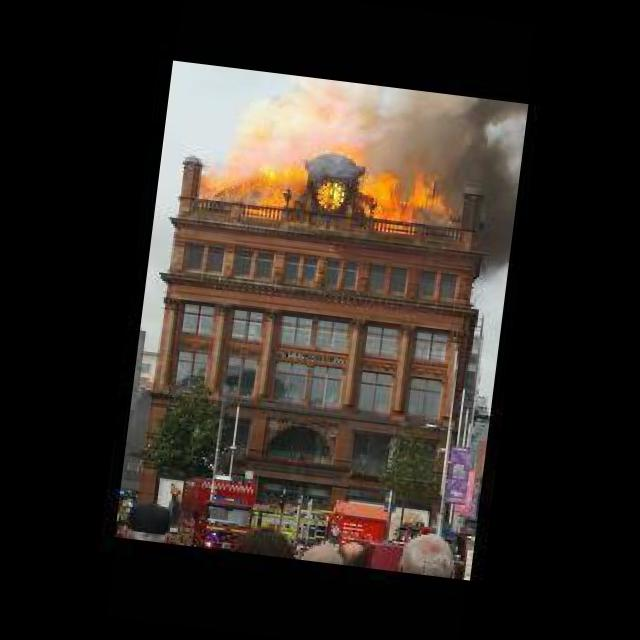Fire: (202, 132, 458, 244)
Smoke: (243, 70, 467, 162), (440, 96, 524, 284)
